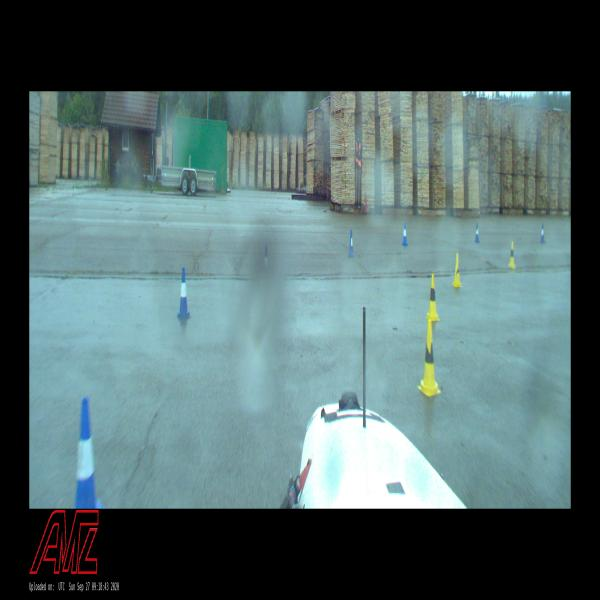blue_cone: (75, 397, 97, 507), (178, 268, 189, 318), (261, 246, 270, 287), (348, 230, 354, 257), (402, 222, 408, 245), (475, 222, 480, 242), (540, 223, 544, 243)
yellow_cone: (420, 321, 438, 394), (427, 274, 438, 320), (453, 252, 462, 287), (508, 241, 516, 268)
